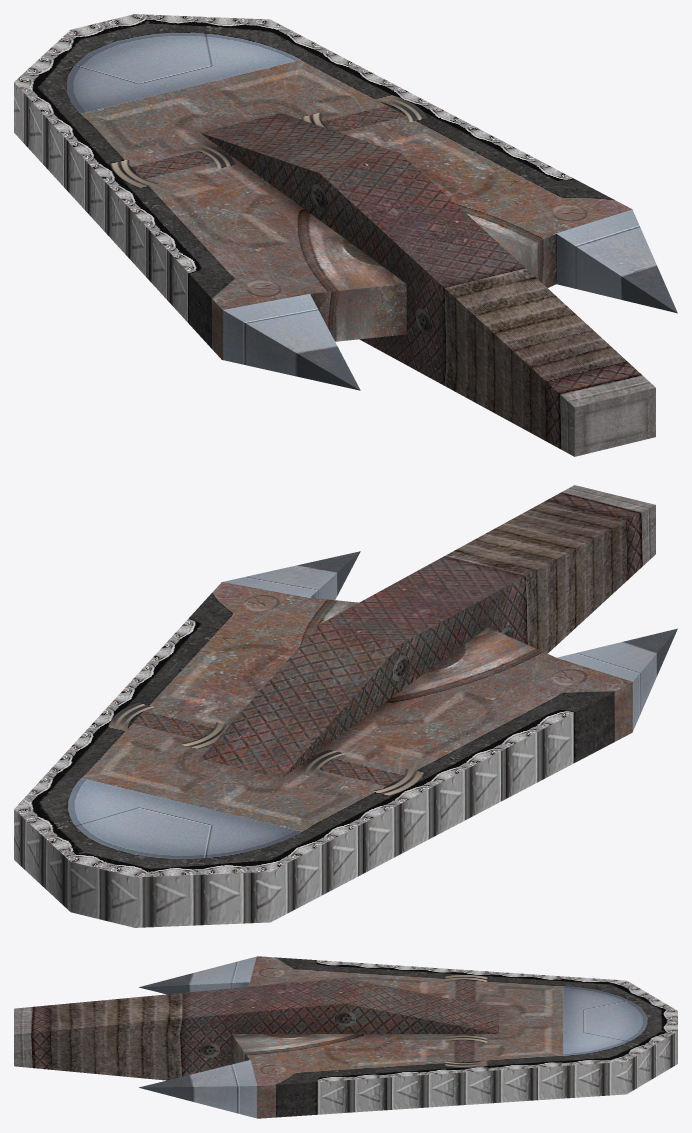
File: afps_1.glb
3 views of the same model, one above another, from view 1: azimuth 30°, elevation 25°; view 2: azimuth 150°, elevation 25°; view 3: azimuth 270°, elevation 25° (orthographic). The views are drawn at different scales.
Visible parts, largest first — view 1: weapon1; view 2: weapon1; view 3: weapon1.
Part boxes in pixels (box(x1,y1,x2,y2)): weapon1: box(14, 14, 677, 456); weapon1: box(14, 485, 677, 927); weapon1: box(14, 956, 677, 1118).
Size of the model in its own units: 0.4163 by 0.1399 by 0.9.
Materials: 1 (1 with a texture image).
